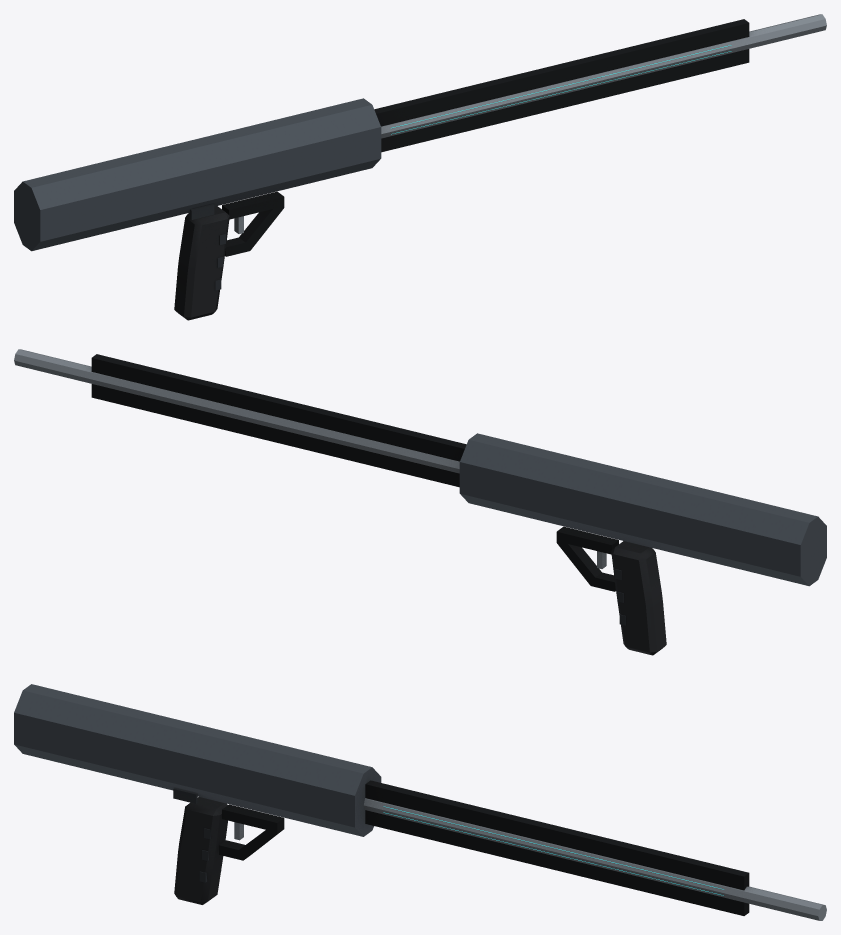
The model's file is opr_wpn_penetrator_a.glb.
3 renders of one model, top to bottom at view 1: azimuth 30°, elevation 25°; view 2: azimuth 150°, elevation 25°; view 3: azimuth 330°, elevation 25°, orthographic.
Parts seen in each view (by area): view 1: mesh_intact; view 2: mesh_intact; view 3: mesh_intact.
Part boxes in pixels (x1,y1,x2,y2): mesh_intact: (14, 14, 826, 320); mesh_intact: (14, 349, 826, 655); mesh_intact: (14, 684, 826, 920).
Bounding box in the file's own units: 1.05 × 0.215 × 0.06.
1 material, 1 textured.
